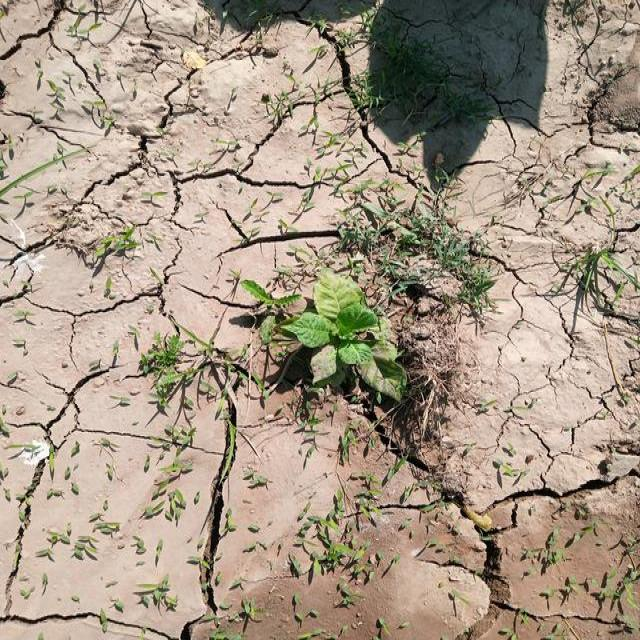crop: (292, 267, 397, 394)
